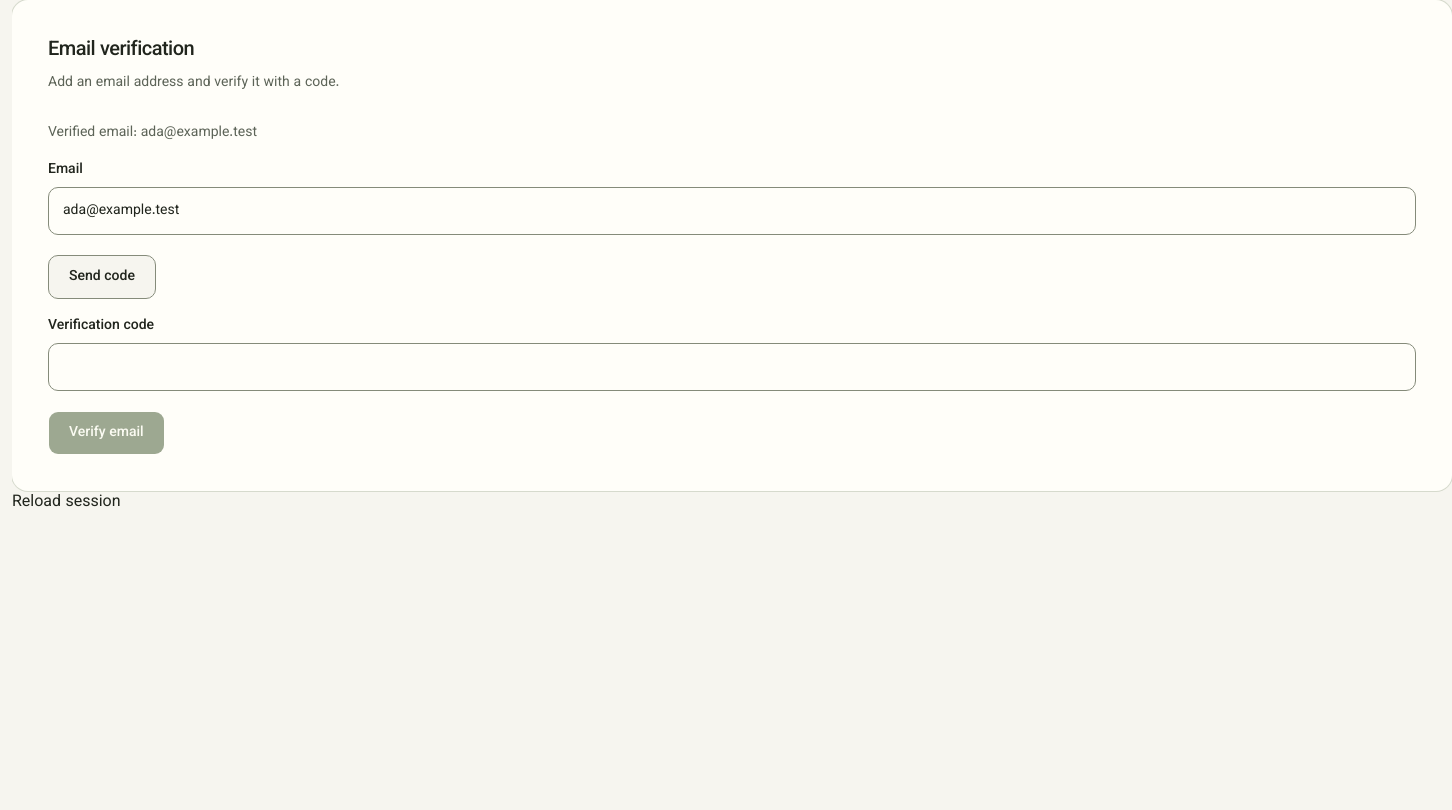
Scenario: email verification ownership › invalidates a requested code when the destination is edited and respects resend cooldown
Check: the field labelled "Email" is shown, box top-left (48, 187), bottom-right (1416, 235)
Click the button "Send code" at (102, 277), box top-left (48, 255), bottom-right (156, 299)
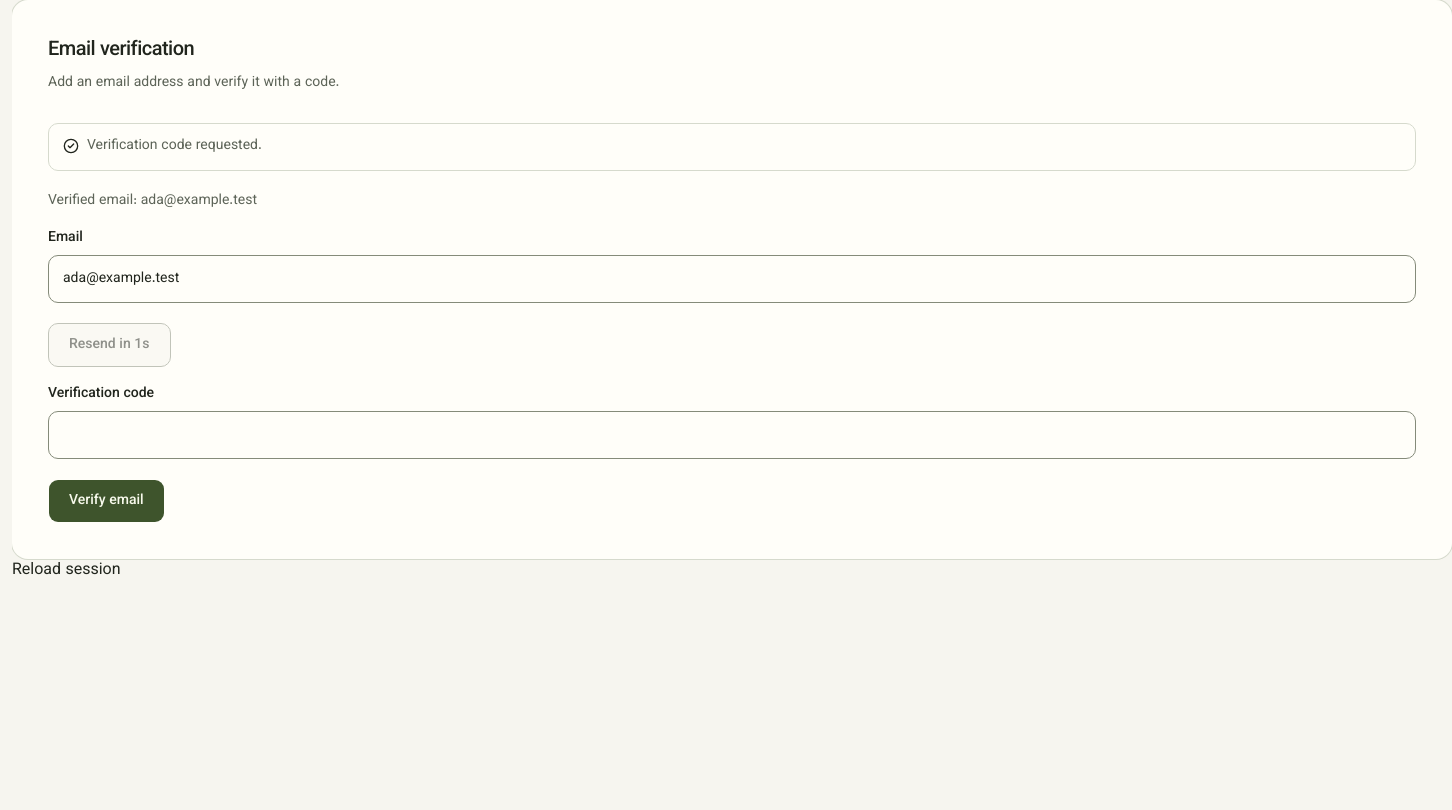
Check: the text "Verification code requested." is shown, box top-left (87, 135), bottom-right (262, 157)
Check: the button "Verify email" is enabled, box top-left (48, 479), bottom-right (165, 523)
Replace the text in the field labelled "Email" with "other@example.test" at (732, 279), box top-left (48, 255), bottom-right (1416, 303)
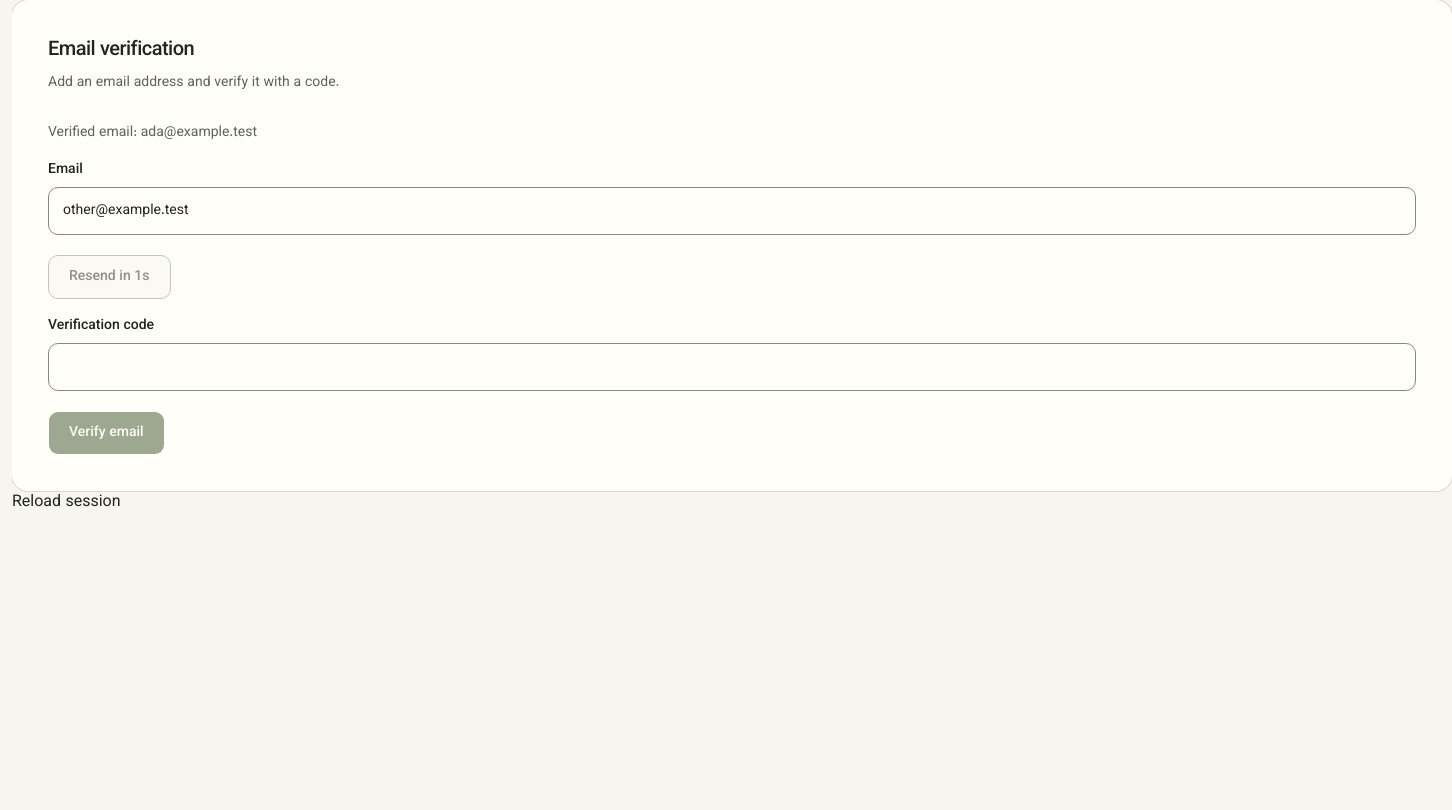
Check: the button "Verify email" is disabled, box top-left (48, 411), bottom-right (165, 455)
Check: the message "Verification code requested." is gone
Click the button "Resend in 1s" at (109, 277), box top-left (48, 255), bottom-right (170, 299)
Wait 1000 ms
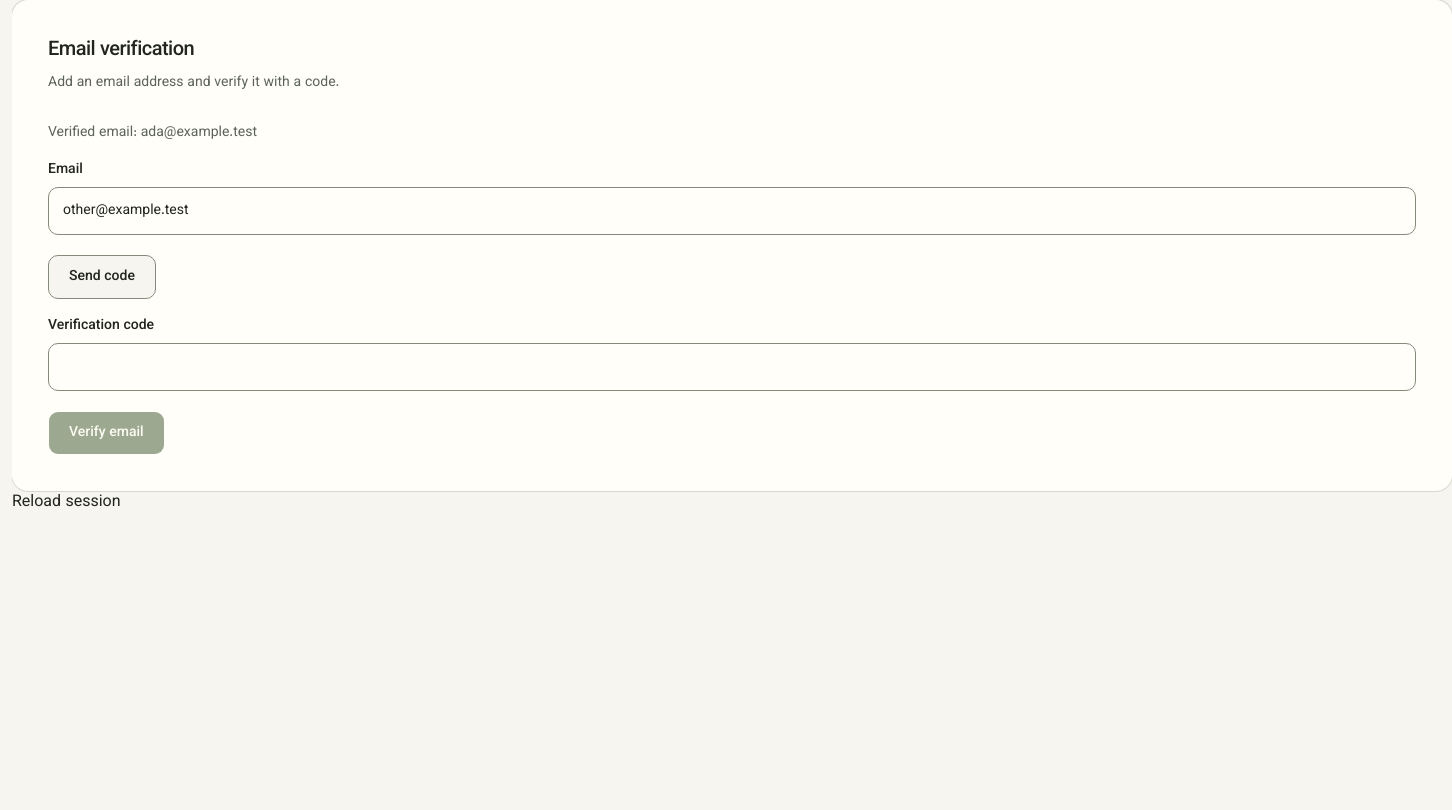
Click the button "Send code" at (102, 277), box top-left (48, 255), bottom-right (156, 299)
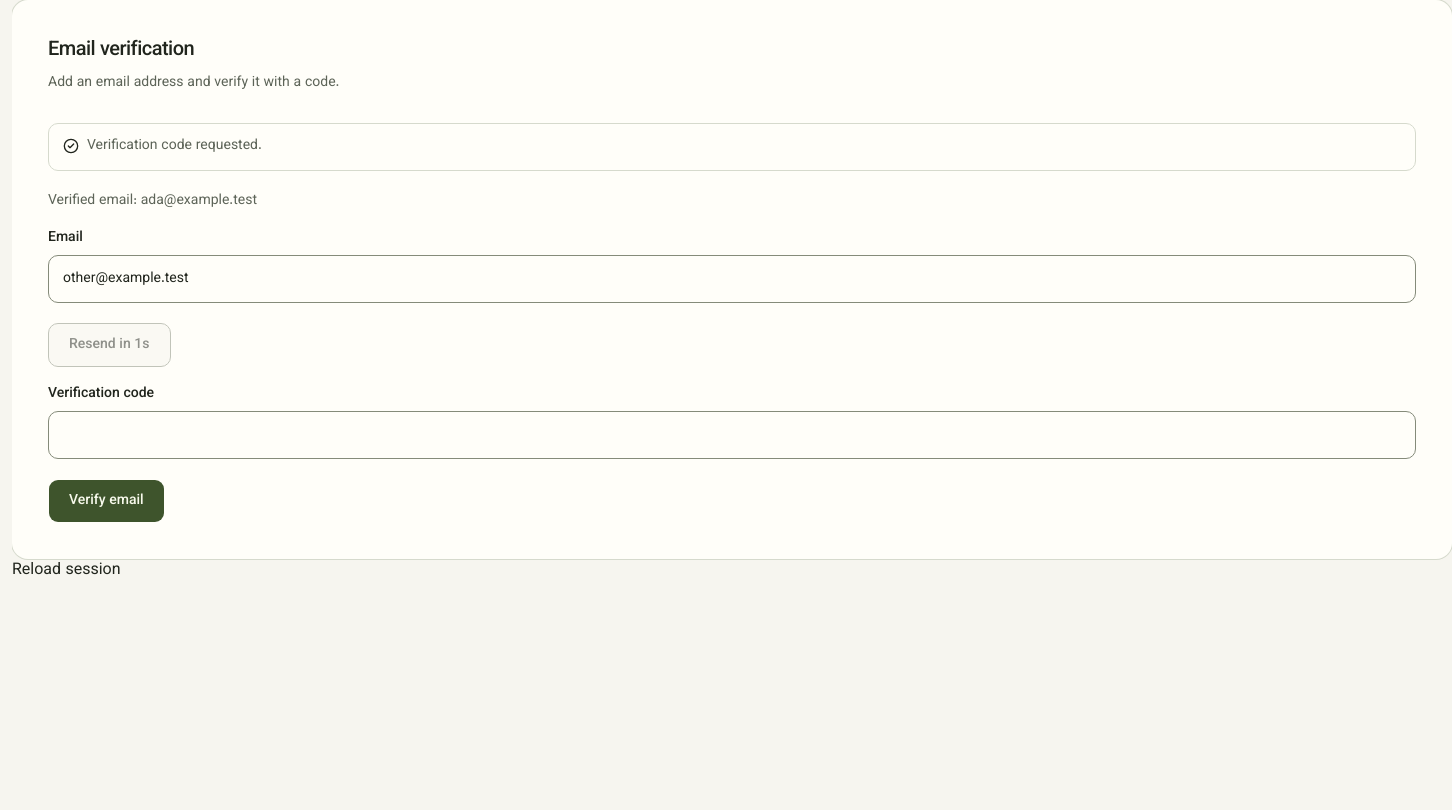
Check: the text "Verification code requested." is shown, box top-left (87, 135), bottom-right (262, 157)
